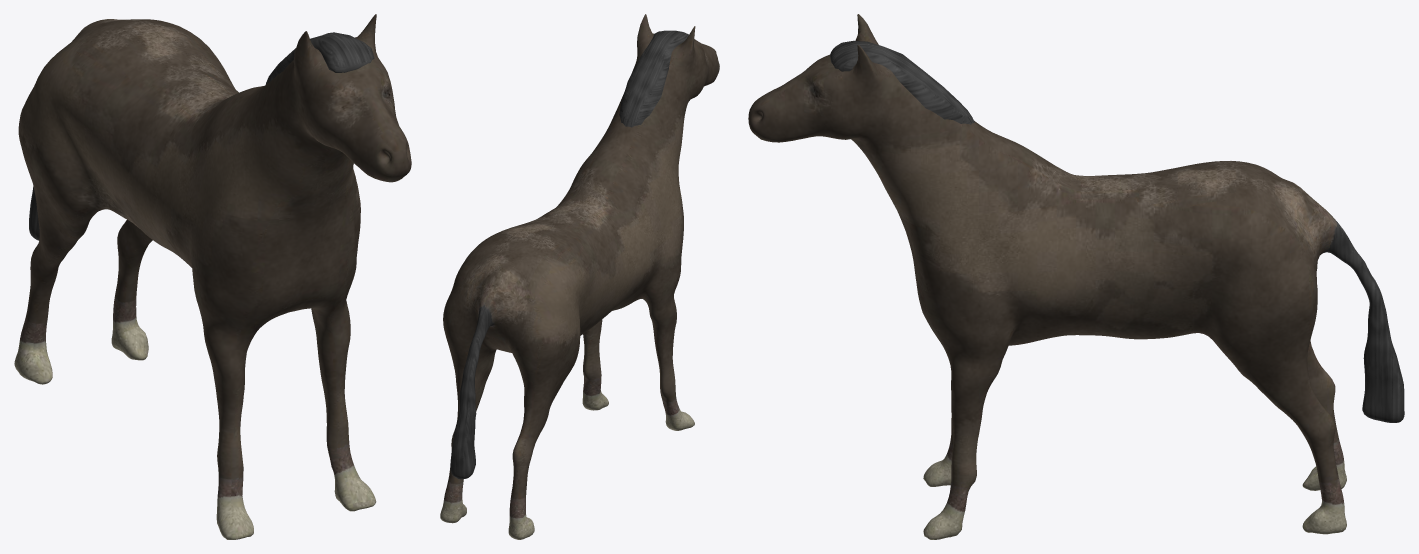
Rendered from Horse.fbx.
3 views of the same model, side by side, from view 1: azimuth 30°, elevation 25°; view 2: azimuth 150°, elevation 25°; view 3: azimuth 270°, elevation 25° (orthographic). The views are drawn at different scales.
Visible parts, largest first — view 1: pCube2; view 2: pCube2; view 3: pCube2.
Part boxes in pixels (x1,y1,x2,y2): pCube2: (14, 14, 411, 539); pCube2: (440, 14, 719, 539); pCube2: (748, 14, 1404, 539).
Size of the model in its own units: 418 by 1248 by 1545.
